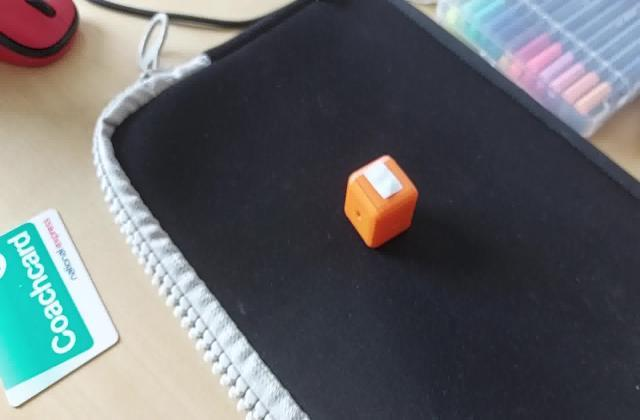sticker: (342, 154, 422, 252)
white: (366, 168, 406, 200)
